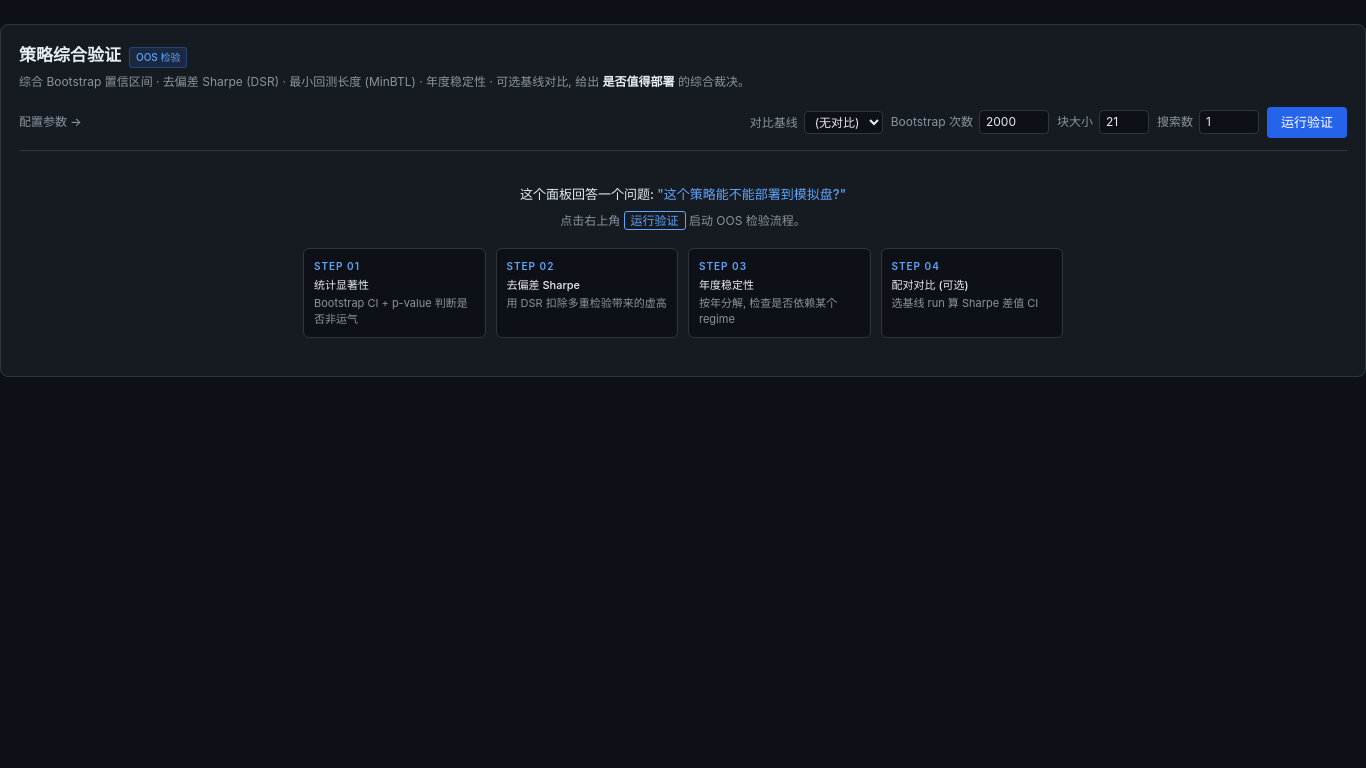
Test: ValidationPanel - ComparisonSection sign branch (V2.23.2 I7) › "显著优于基线" shown when sharpe_diff > 0 and significant
Click the button "运行验证" at [1307, 122], box [1267, 106, 1347, 138]
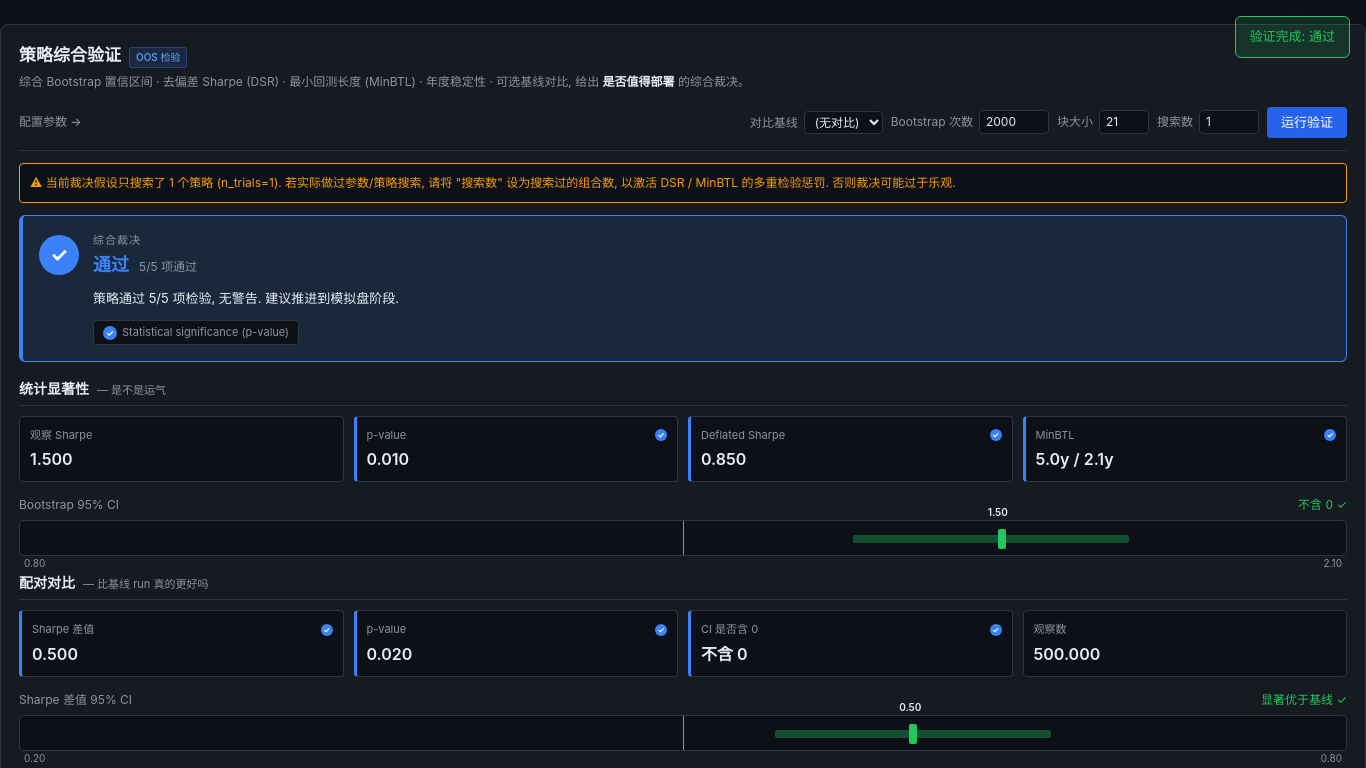
Expected: the text "显著优于基线 ✓" is shown, [1261, 691, 1347, 709]
